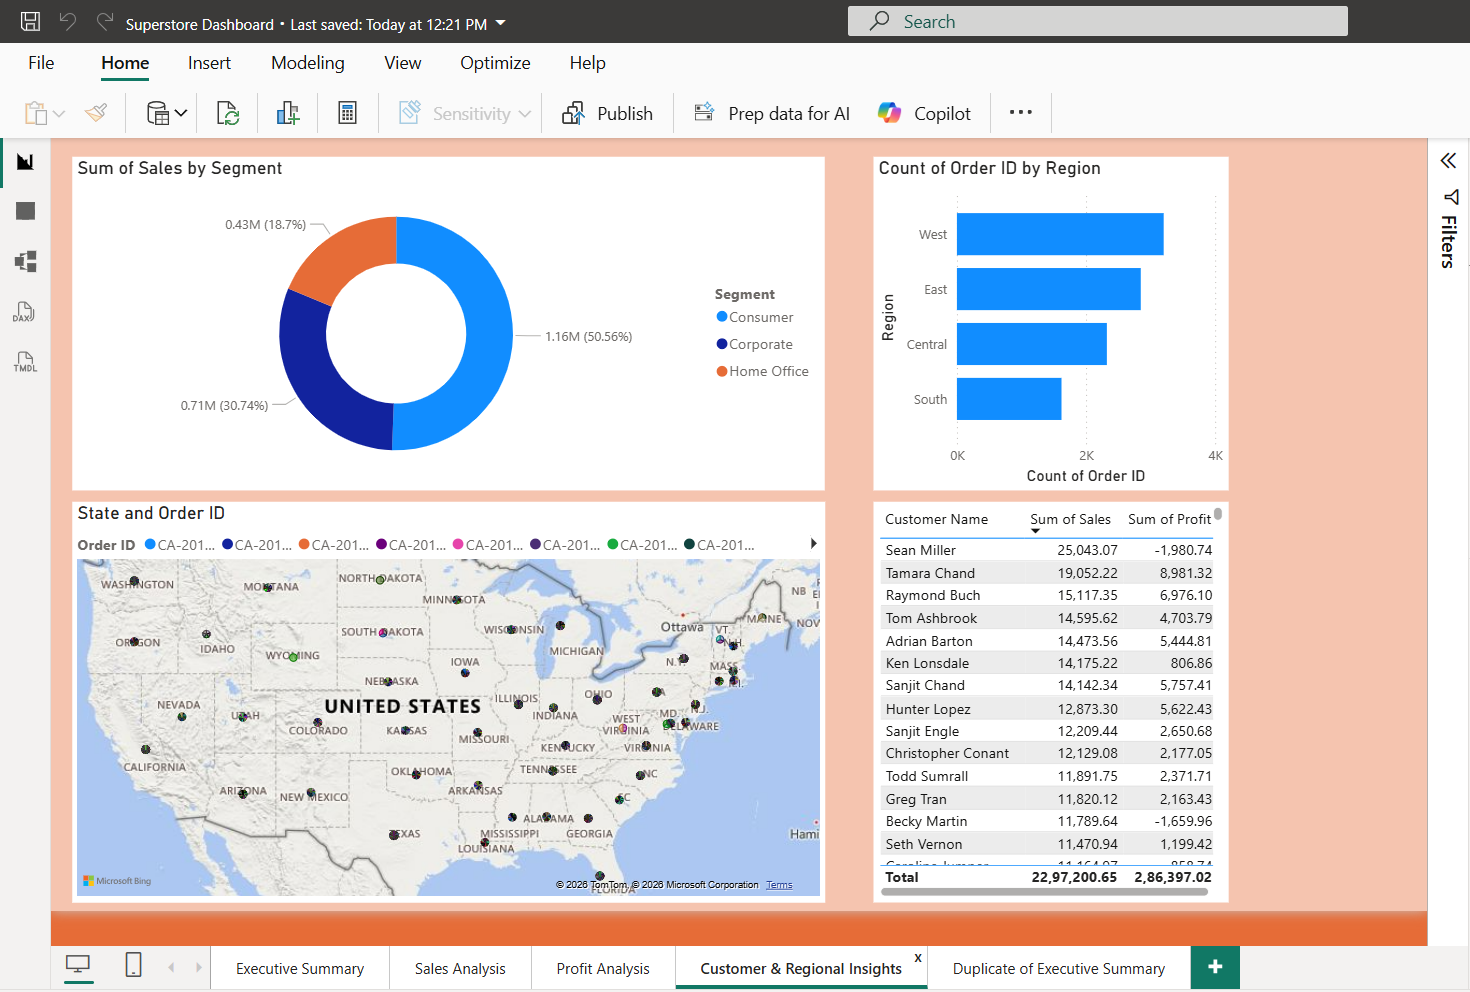

What the dashboard file says about the page in this screenshot:
{"tool":"powerbi","page":{"name":"Customer & Regional Insights","canvas":[1280,720],"ordinal":3},"visuals":[{"type":"donutChart","fields":{"Category":["Main.Segment"],"Y":["Sum(Orders.Sales)"]},"box":[20,17.5,700,310],"z":0},{"type":"clusteredBarChart","fields":{"Category":["Orders.Region"],"Y":["CountNonNull(Orders.Order ID)"]},"box":[765,17.5,330,310],"z":1000},{"type":"tableEx","fields":{"Values":["Main.Customer Name","Sum(Main.Sales)","Sum(Main.Profit)"]},"box":[765,338.8,330,372.5],"z":2000},{"type":"map","fields":{"Category":["Main.State"],"Series":["Main.Order ID"]},"box":[20,338.8,700,372.5],"z":3000}]}

Visuals, with their boxes on the page's 1280x720 design canvas (x1, y1, x2, y2). These are canvas units, not pixel positions in the 1470x992 screenshot, which may show the page scaled, cropped or inside an application window:
donutChart - Main.Segment x Sum(Orders.Sales): <region>20, 18, 720, 328</region>
clusteredBarChart - Orders.Region x CountNonNull(Orders.Order ID): <region>765, 18, 1095, 328</region>
tableEx - Main.Customer Name x Sum(Main.Sales): <region>765, 339, 1095, 711</region>
map - Main.State x Main.Order ID: <region>20, 339, 720, 711</region>
